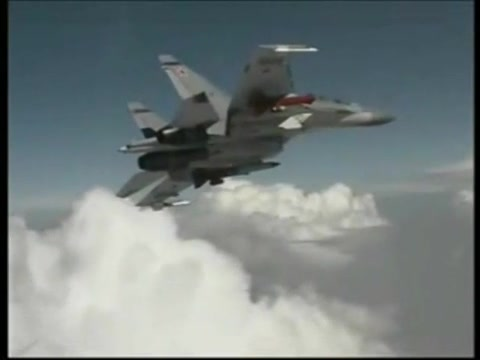aeroplane: (115, 41, 398, 214)
